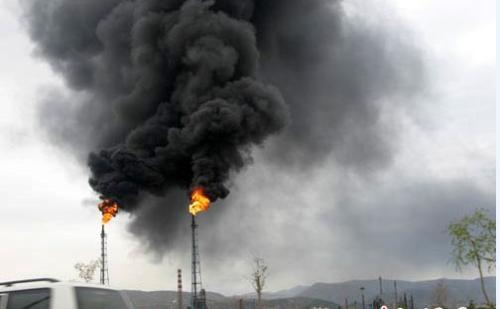smoke: (19, 1, 331, 203)
